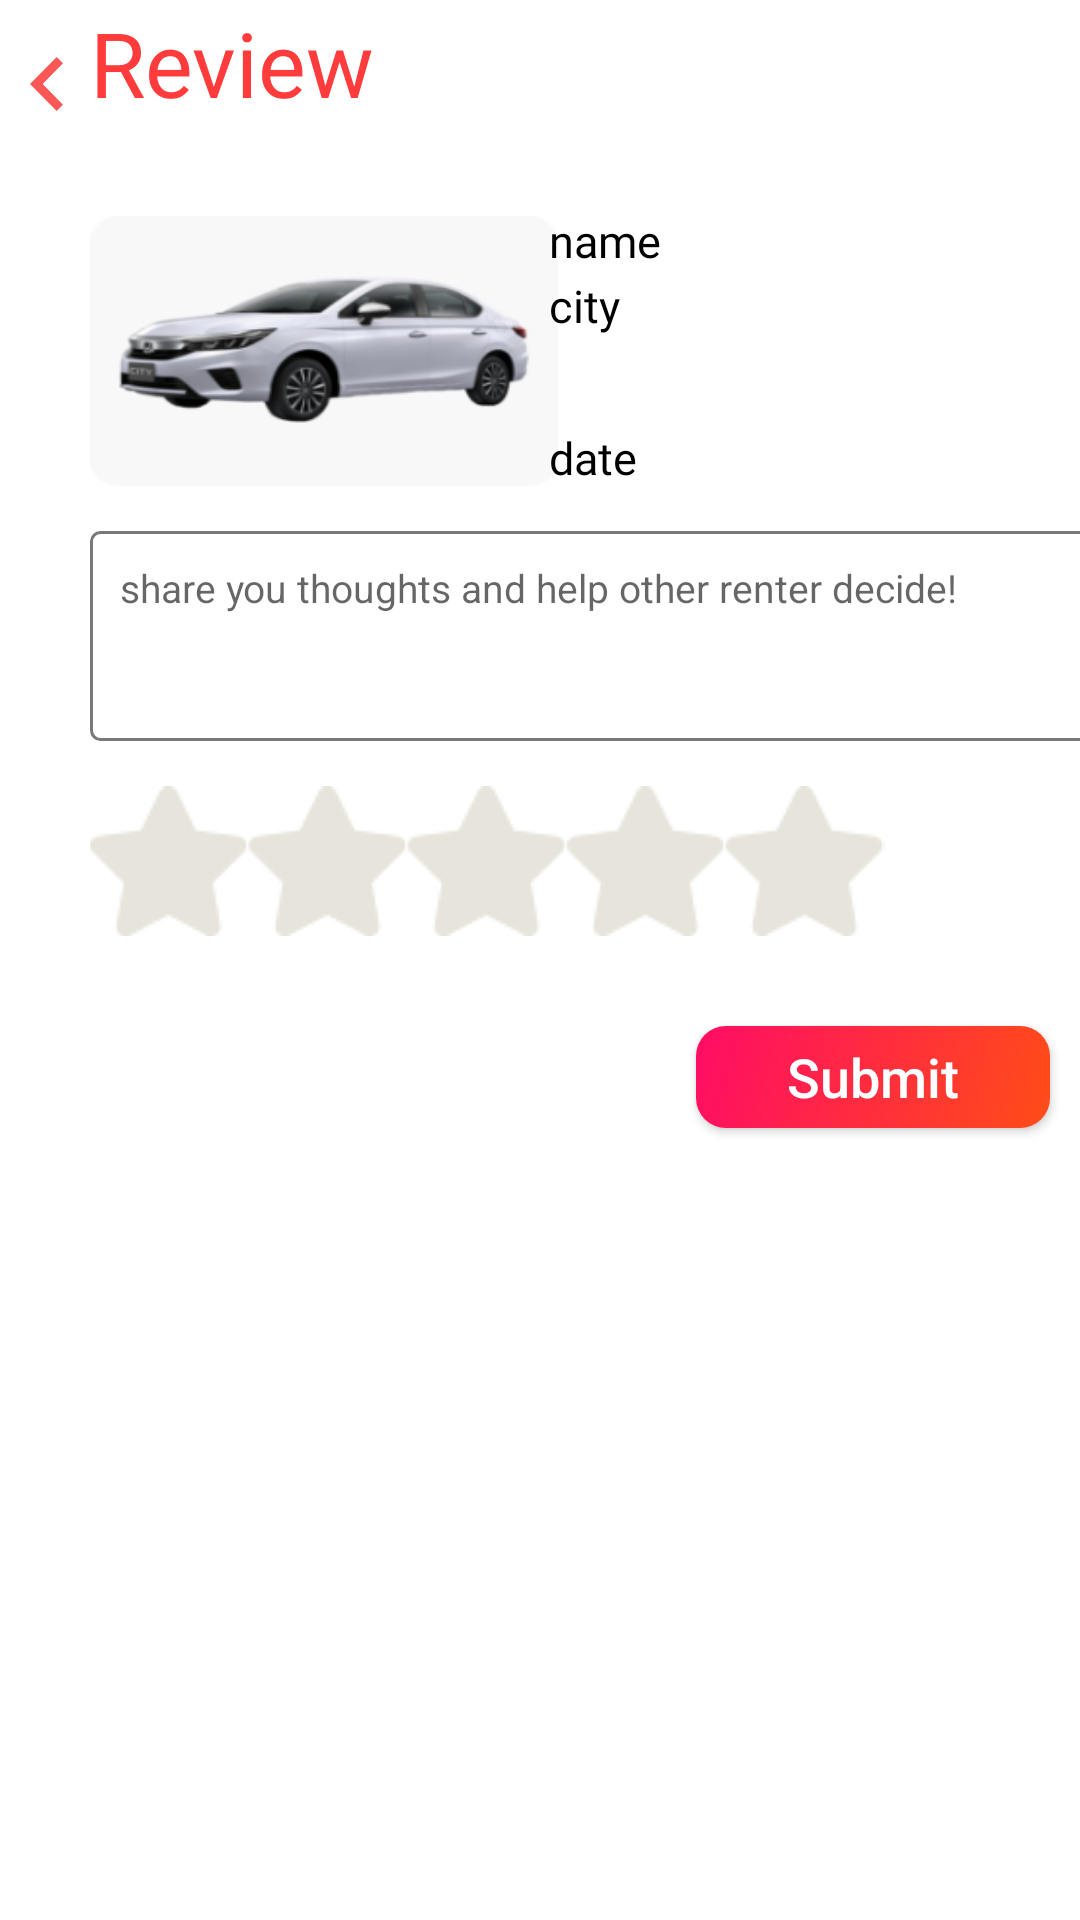

Where to tap for icons on this 1080px x 1920px app screen, as (x=x, y=y):
back botton: (x=46, y=84)
